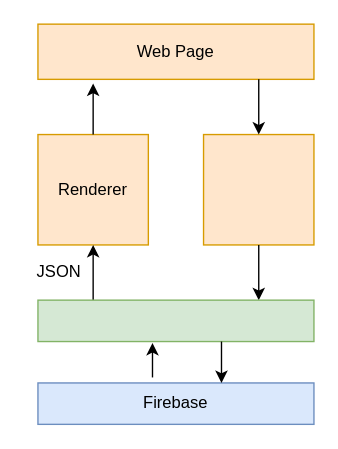
The diagram is 338 pixels wide and 449 high, and some of its shapes have lost their labels. Each missing label, with the centre of its shape:
"Data Management" belongs at pixel 175 320.
"User input processing" belongs at pixel 258 189.
